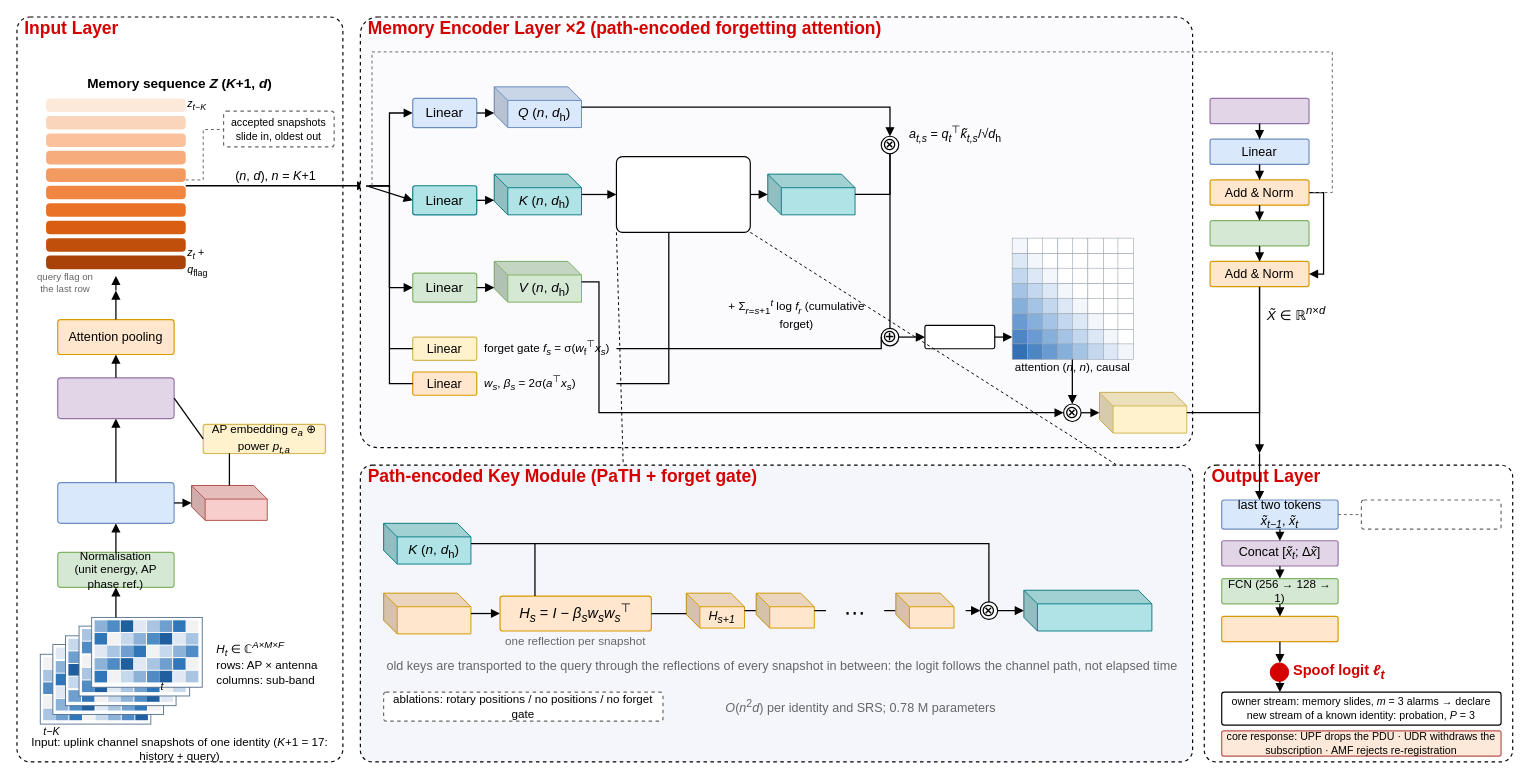
Some shapes in this 1531 by 781 pixel diagram are drawn without their labels. Each missing label, with the centre of its shape:
"Concat heads" goes at (1259,110).
"Feed forward" goes at (1259,233).
"H s+2" goes at (784,610).
"H t" goes at (924,610).
"K̃ ( n , n , d h )" goes at (811,194).
"k̃ t,s = H t ⋯ H s +1 k s" goes at (1087,610).
"Output ( n , d )" goes at (1143,412).
"Path-encoded key module (Householder product)" goes at (682,194).
"Per-AP CNN tokenizer Conv(3×5) ×3, Linear" goes at (115,502).
"Prediction head ẑ t = W p x̃ t−1 (training)" goes at (1430,514).
"Set self-attention over APs ×2 (4 heads)" goes at (115,398).
"Sigmoid" goes at (1279,628).
"Softmax" goes at (959,336).
"U ( K +1, A , d )" goes at (229,502).
"w s , β s ( n , d h )" goes at (427,613).
